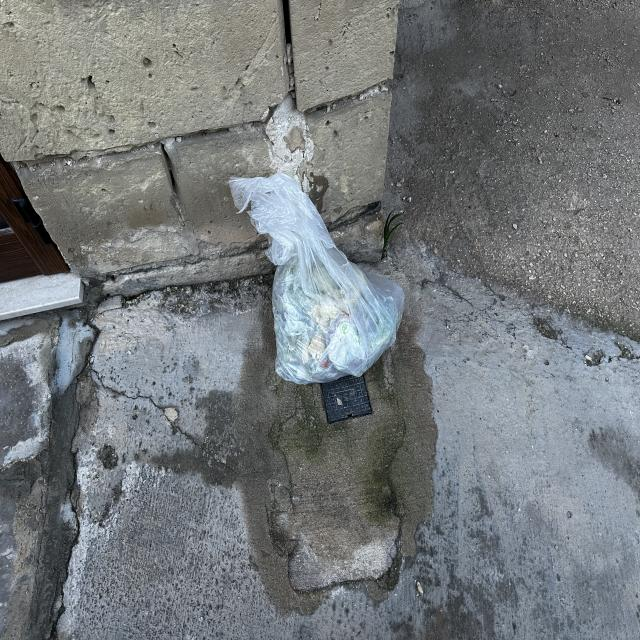Organic Waste -White Bags-: (229, 174, 405, 384)
